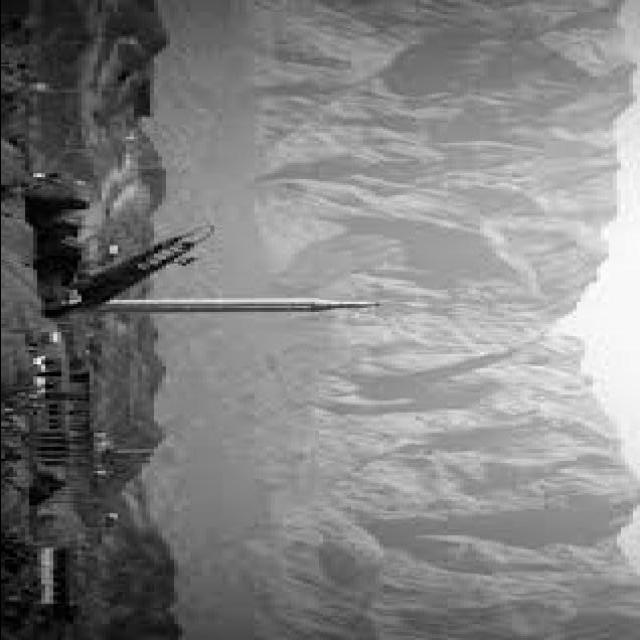Missile: (99, 296, 397, 319)
